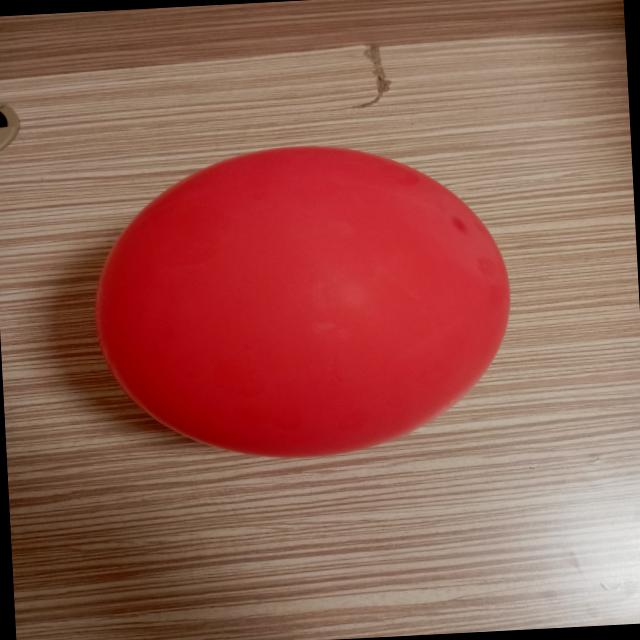balloon: (96, 146, 510, 456)
